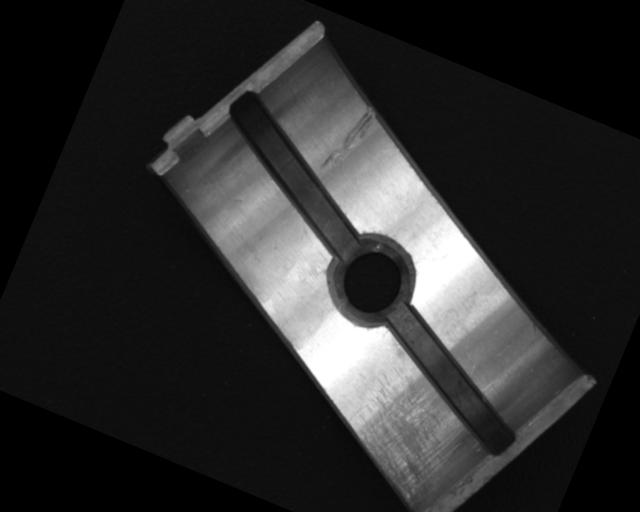gap: (194, 86, 393, 262), (354, 299, 548, 460)
hole: (318, 227, 424, 339)
nick: (317, 95, 381, 181)
scratch: (332, 359, 481, 510)
